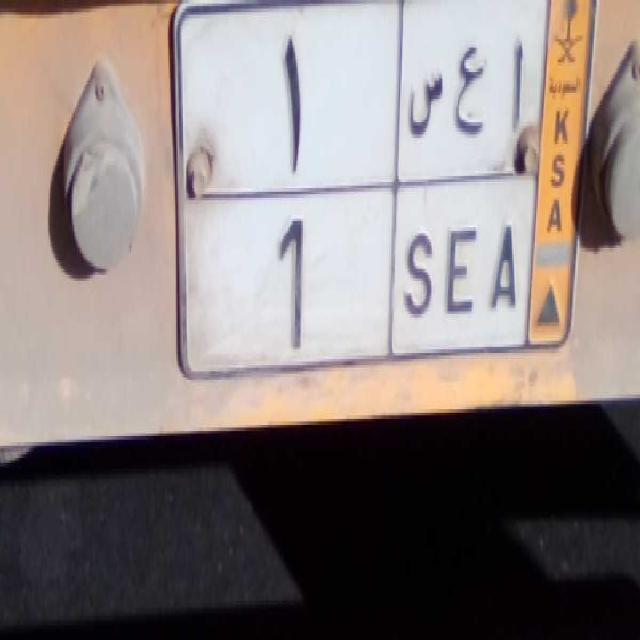license_plate: (186, 177, 530, 367)
